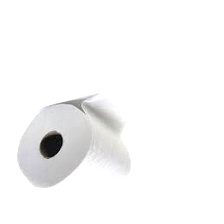tissue: (12, 72, 207, 203)
